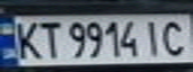1: (103, 18, 124, 57)
4: (118, 17, 142, 57)
9: (63, 18, 87, 58), (84, 18, 106, 60)
C: (157, 17, 193, 56)
I: (139, 17, 169, 57)
K: (6, 18, 45, 61)
T: (33, 18, 63, 60)
